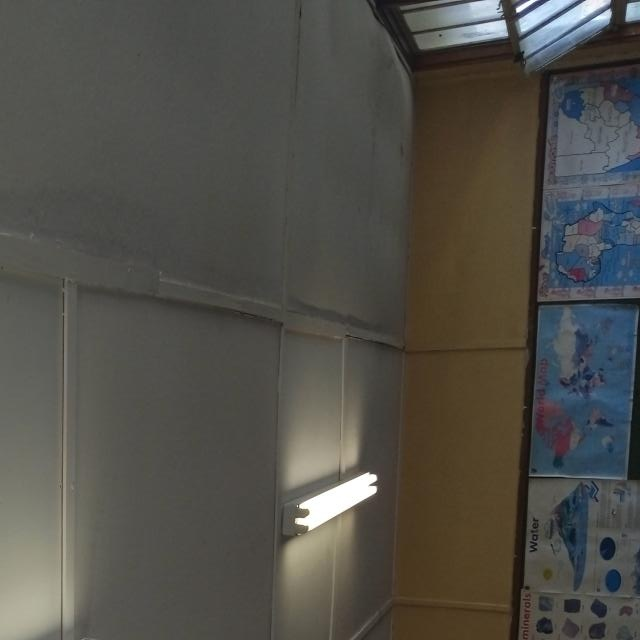fluorescent tube: (255, 441, 400, 537), (0, 611, 131, 640)
